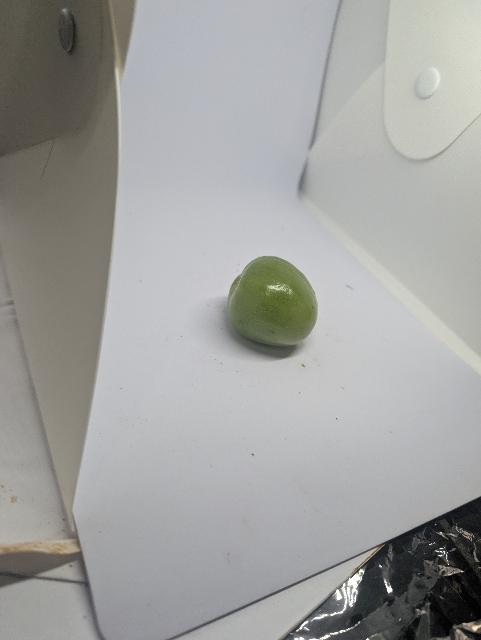green: (223, 253, 321, 349)
